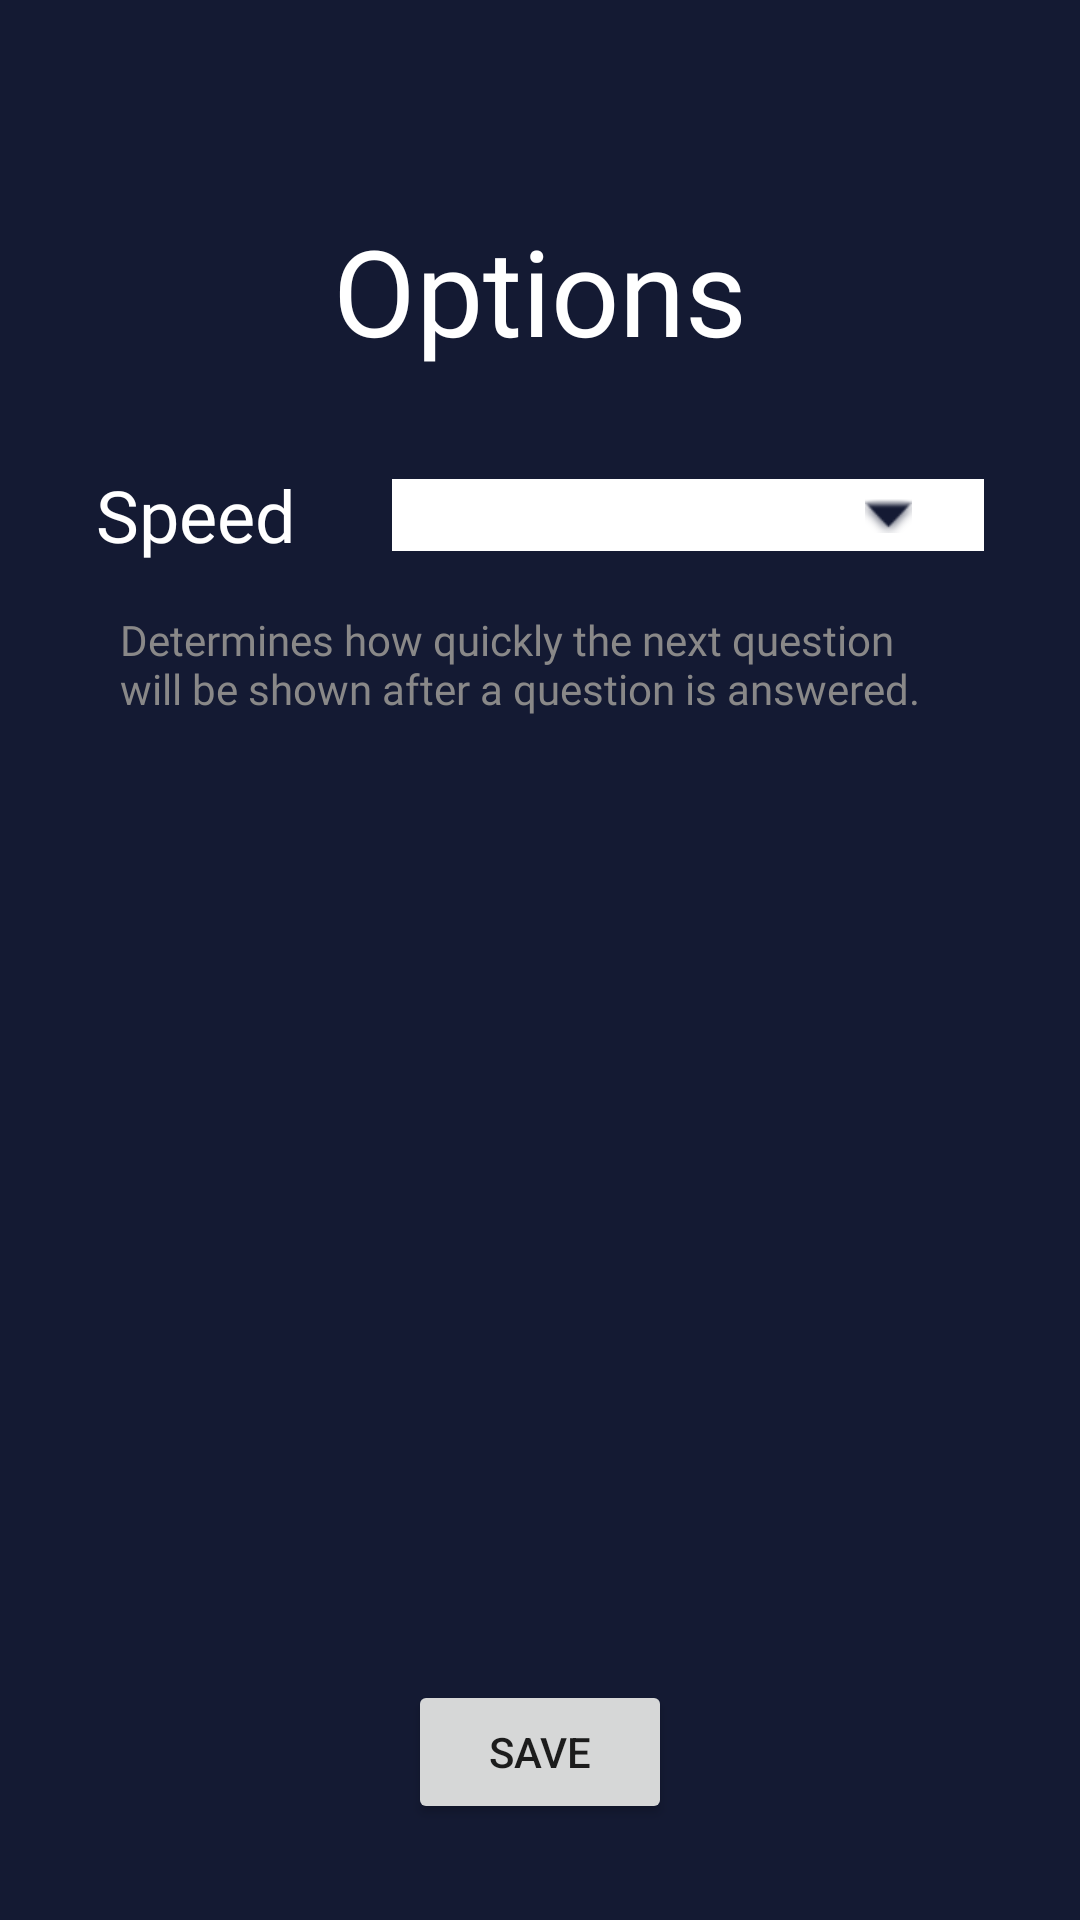

Screen size 1080 × 1920. Icon name, then its box in pixels as Rect(x1, y1, x2, y2):
arrow down float: Rect(865, 500, 912, 532)
